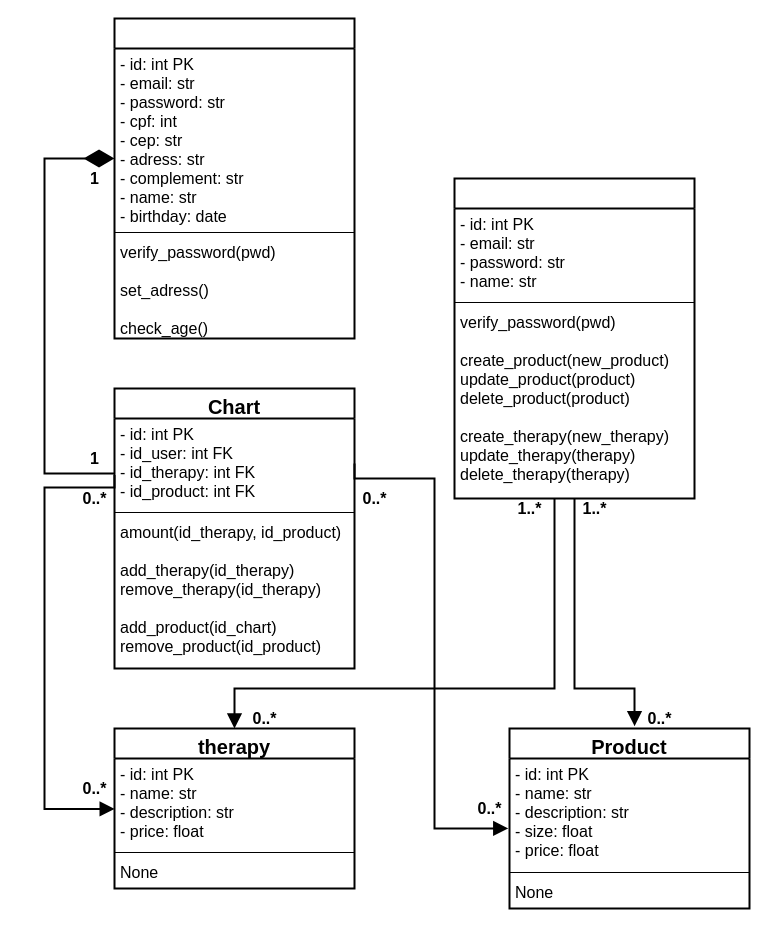
The diagram is 767 pixels wide and 928 high, and some of its shapes have lost their labels. The shapes that lost their labels are listed below. From the top down, each one's box as (x1, y1, x2, y2) in pixels, then its label:
(113, 17, 355, 339): User
(453, 177, 695, 499): Admin
